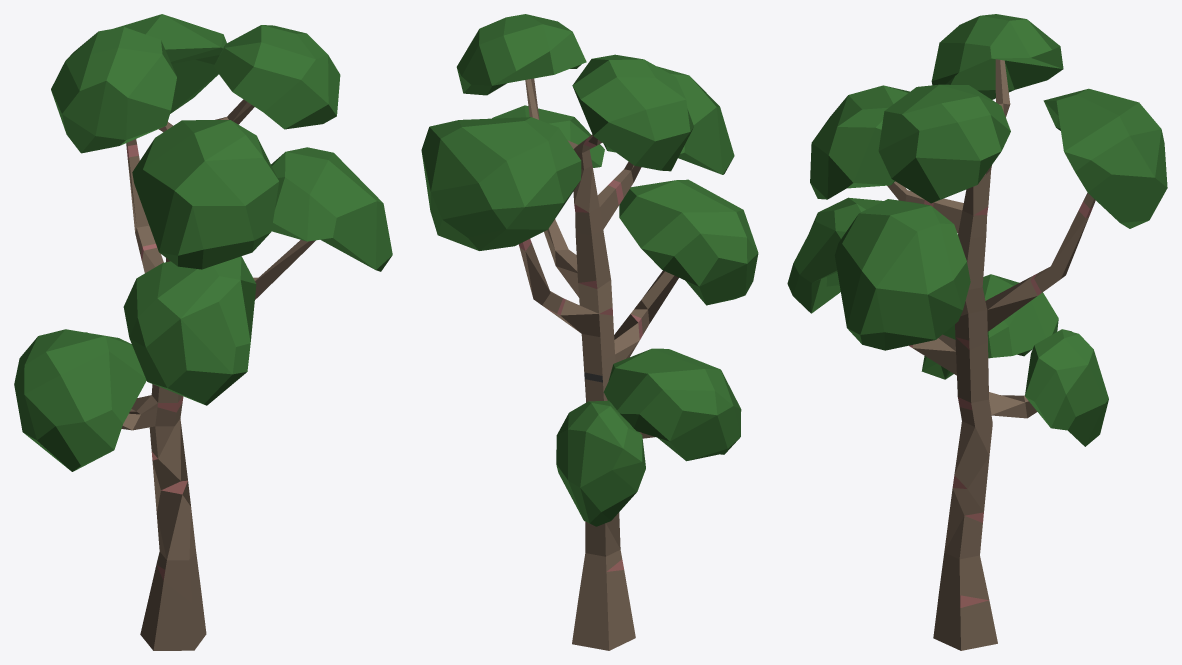
The model's file is Dhuamushen.FBX.
3 renders of one model, left to right at view 1: azimuth 30°, elevation 25°; view 2: azimuth 150°, elevation 25°; view 3: azimuth 270°, elevation 25°, orthographic.
Parts seen in each view (by area): view 1: 对象007; view 2: 对象007; view 3: 对象007.
Part boxes in pixels (<box>): 对象007: <box>14,14,392,650</box>; 对象007: <box>421,14,758,650</box>; 对象007: <box>787,14,1167,650</box>.
Size of the model in its own units: 37.76 by 70.01 by 40.07.
